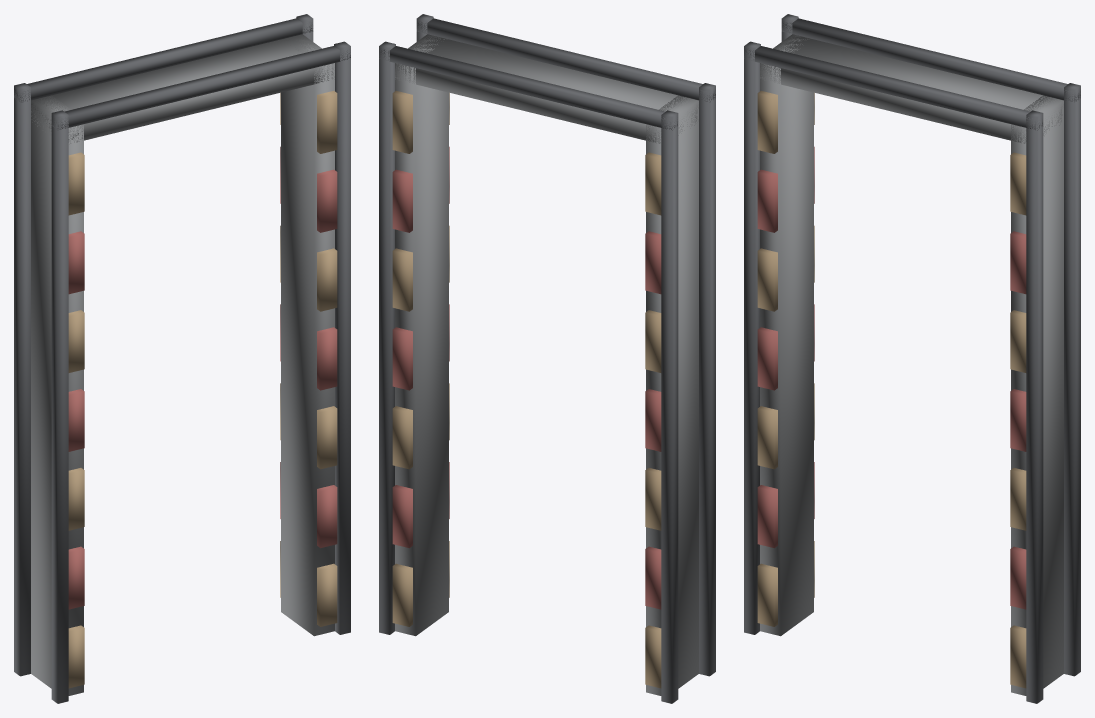
The model's file is doorway_brick_return_w96_h220_d24.glb.
3 renders of one model, left to right at view 1: azimuth 30°, elevation 25°; view 2: azimuth 150°, elevation 25°; view 3: azimuth 330°, elevation 25°, orthographic.
Parts seen in each view (by area): view 1: world; view 2: world; view 3: world.
Boxes of the visible parts, <box> form: world: <box>14,14,350,703</box>; world: <box>379,14,715,703</box>; world: <box>744,14,1080,703</box>.
Size of the model in its own units: 1.22 by 2.34 by 0.3165.
